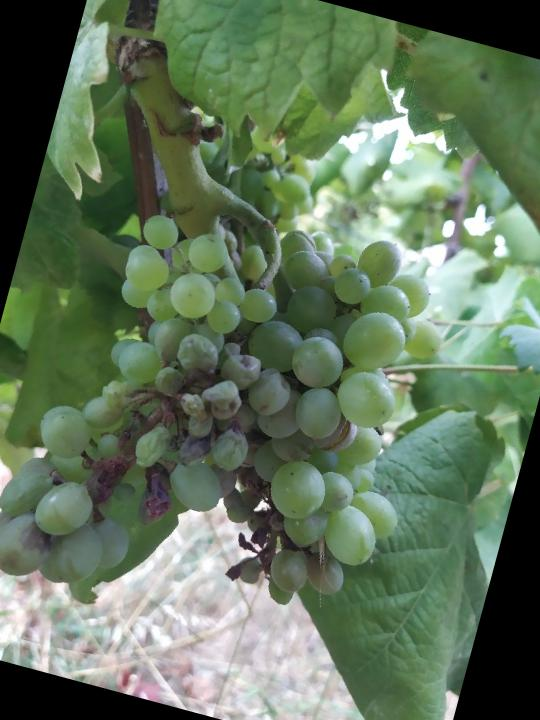grape: (0, 157, 473, 673)
